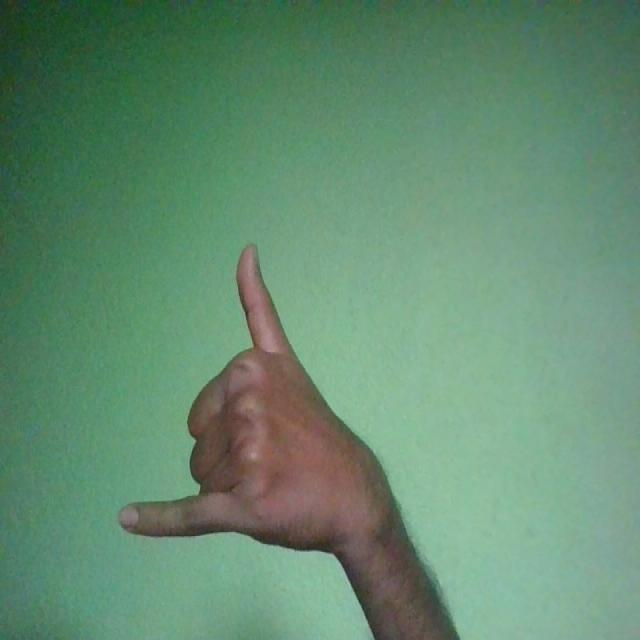Call Me: (116, 241, 394, 556)
